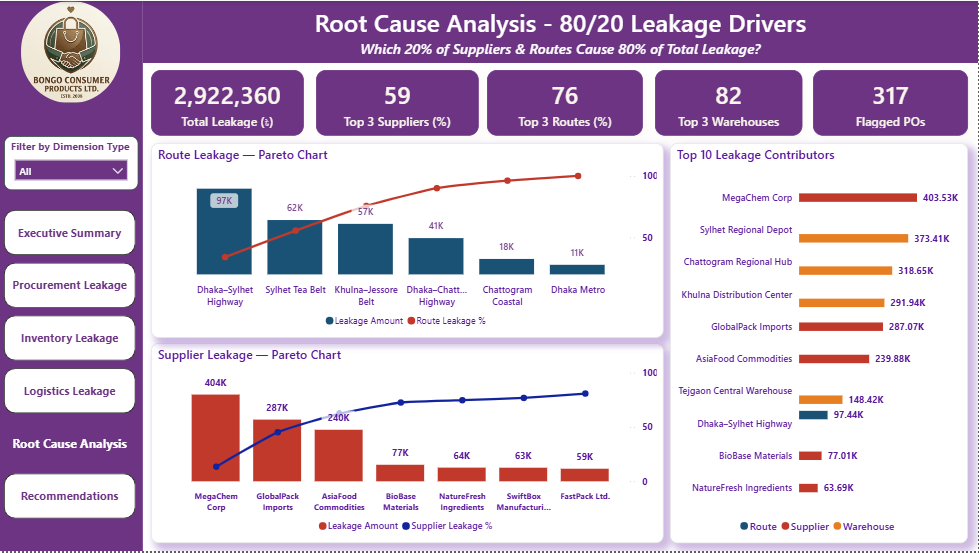

The page's visual inventory and layout, read from the dashboard file:
{"tool":"powerbi","page":{"name":"Root Cause Analysis","canvas":[1280,720],"ordinal":4},"visuals":[{"type":"shape","box":[0,0,187.2,720],"z":0},{"type":"slicer","title":"Filter by Dimension Type","fields":{"Values":["vw_leakage_by_supplier_route.dimension_type"]},"box":[4.6,177.1,175.6,70.9],"z":1000},{"type":"card","fields":{"Values":["_Measures.Grand Total Leakage"]},"box":[197.3,90.7,200.2,86.4],"z":2000},{"type":"card","fields":{"Values":["_Measures.Top 3 Supplier Leakage %"]},"box":[413.3,90.7,213.1,86.4],"z":3000},{"type":"card","fields":{"Values":["_Measures.Top 3 Route Leakage %"]},"box":[637.9,90.7,204.5,86.4],"z":4000},{"type":"card","fields":{"Values":["_Measures.Top 3 Warehouse Leakage %"]},"box":[856.8,90.7,193,86.4],"z":5000},{"type":"card","fields":{"Values":["_Measures.Flagged PO Count"]},"box":[1064.2,90.7,203,86.4],"z":6000},{"type":"textbox","box":[187,0,1093,80.6],"z":7000},{"type":"lineClusteredColumnComboChart","title":"Supplier Leakage — Pareto Chart","fields":{"Category":["vw_leakage_by_supplier_route.entity_name"],"Y":["Sum(vw_leakage_by_supplier_route.leakage_amount)"],"Y2":["_Measures.Cumulative Supplier Leakage %"]},"box":[197.3,447.8,671,262.1],"z":8000},{"type":"lineClusteredColumnComboChart","title":"Route Leakage — Pareto Chart","fields":{"Category":["vw_leakage_by_supplier_route.entity_name"],"Y":["Sum(vw_leakage_by_supplier_route.leakage_amount)"],"Y2":["_Measures.Cumulative Route Leakage %"]},"box":[197.3,185.8,671,255],"z":9000},{"type":"clusteredBarChart","title":"Top 10 Leakage Contributors","fields":{"Category":["vw_leakage_by_supplier_route.entity_name"],"Y":["Sum(vw_leakage_by_supplier_route.leakage_amount)"],"Series":["vw_leakage_by_supplier_route.dimension_type"]},"box":[877,185.8,390.2,524.2],"z":10000},{"type":"image","box":[27.4,0,129.6,133.9],"z":11000},{"type":"pageNavigator","box":[5.8,273.6,172.8,406.1],"z":12000}]}

Visuals, with their boxes in screenshot pixels (x1, y1, x2, y2), scaled from the page's 1280x720 canvas onto the 979x553 screenshot:
shape: l=0, t=0, r=143, b=552
"Filter by Dimension Type" slicer: l=4, t=136, r=138, b=190
card - _Measures.Grand Total Leakage: l=151, t=70, r=304, b=136
card - _Measures.Top 3 Supplier Leakage %: l=316, t=70, r=479, b=136
card - _Measures.Top 3 Route Leakage %: l=488, t=70, r=644, b=136
card - _Measures.Top 3 Warehouse Leakage %: l=655, t=70, r=803, b=136
card - _Measures.Flagged PO Count: l=814, t=70, r=969, b=136
textbox: l=143, t=0, r=978, b=62
"Supplier Leakage — Pareto Chart" lineClusteredColumnComboChart: l=151, t=344, r=664, b=545
"Route Leakage — Pareto Chart" lineClusteredColumnComboChart: l=151, t=143, r=664, b=339
"Top 10 Leakage Contributors" clusteredBarChart: l=671, t=143, r=969, b=545
image: l=21, t=0, r=120, b=103
pageNavigator: l=4, t=210, r=137, b=522
